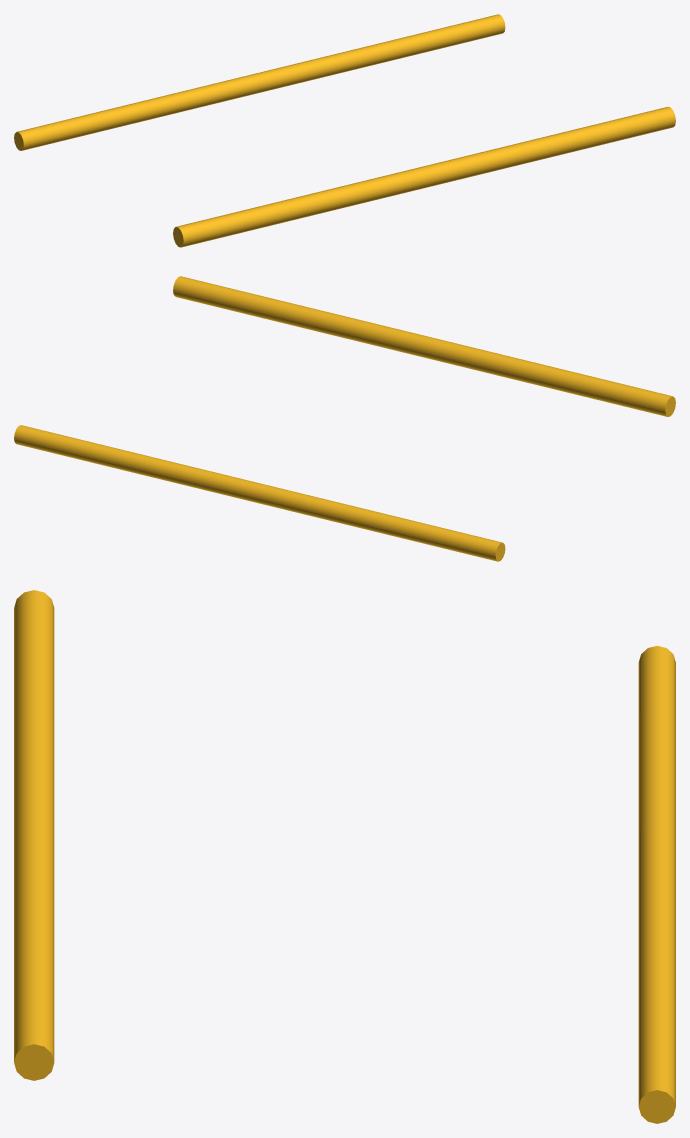
Rendered from roll_cage.glb.
3 views of the same model, one above another, from view 1: azimuth 30°, elevation 25°; view 2: azimuth 150°, elevation 25°; view 3: azimuth 270°, elevation 25° (orthographic). The views are drawn at different scales.
Parts seen in each view (by area): view 1: Roll_Cage_Main_Hoop, Roll_Cage_Front_Hoop; view 2: Roll_Cage_Main_Hoop, Roll_Cage_Front_Hoop; view 3: Roll_Cage_Main_Hoop, Roll_Cage_Front_Hoop.
Part boxes in pixels (x1,y1,x2,y2): Roll_Cage_Main_Hoop: [173, 107, 675, 247]; Roll_Cage_Front_Hoop: [14, 14, 505, 150]; Roll_Cage_Main_Hoop: [173, 276, 675, 416]; Roll_Cage_Front_Hoop: [14, 425, 505, 561]; Roll_Cage_Main_Hoop: [14, 590, 54, 1080]; Roll_Cage_Front_Hoop: [638, 645, 675, 1123].
Bounding box in the file's own units: 1.38 × 0.12 × 0.85.
